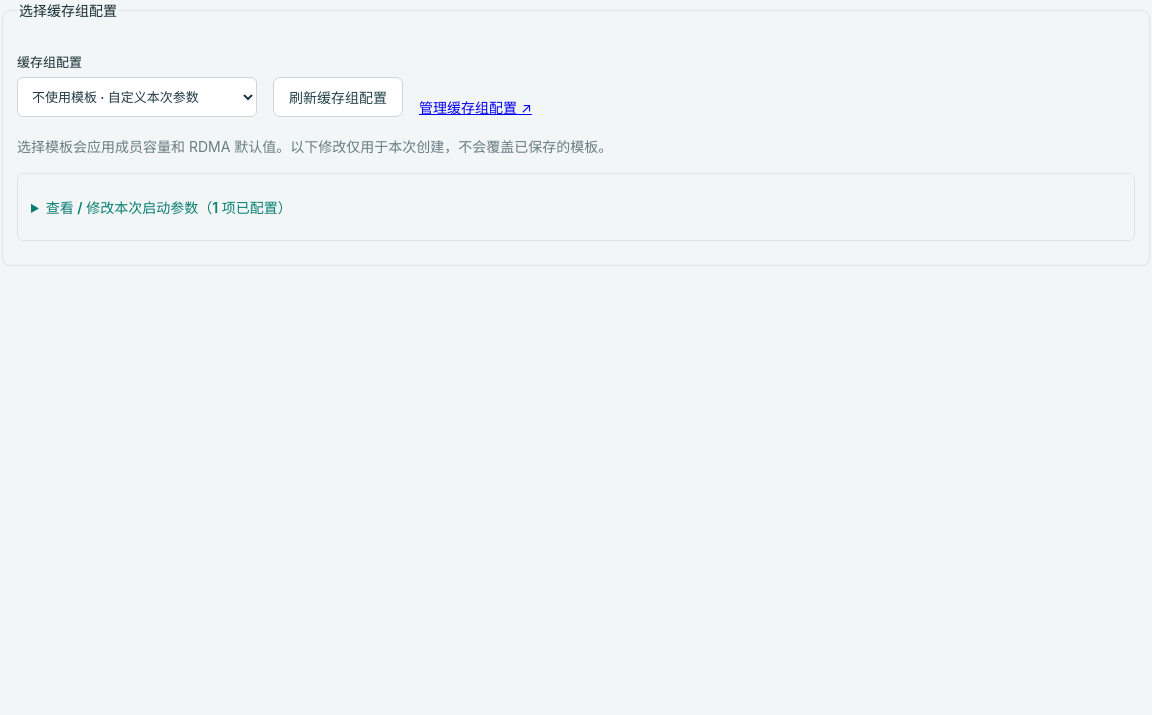
Test case: saves current cache options as a new profile without changing members
Click the heading "查看 / 修改本次启动参数（1 项已配置）".
click(169, 207)  # box [46,199,292,216]
(page scrolled)
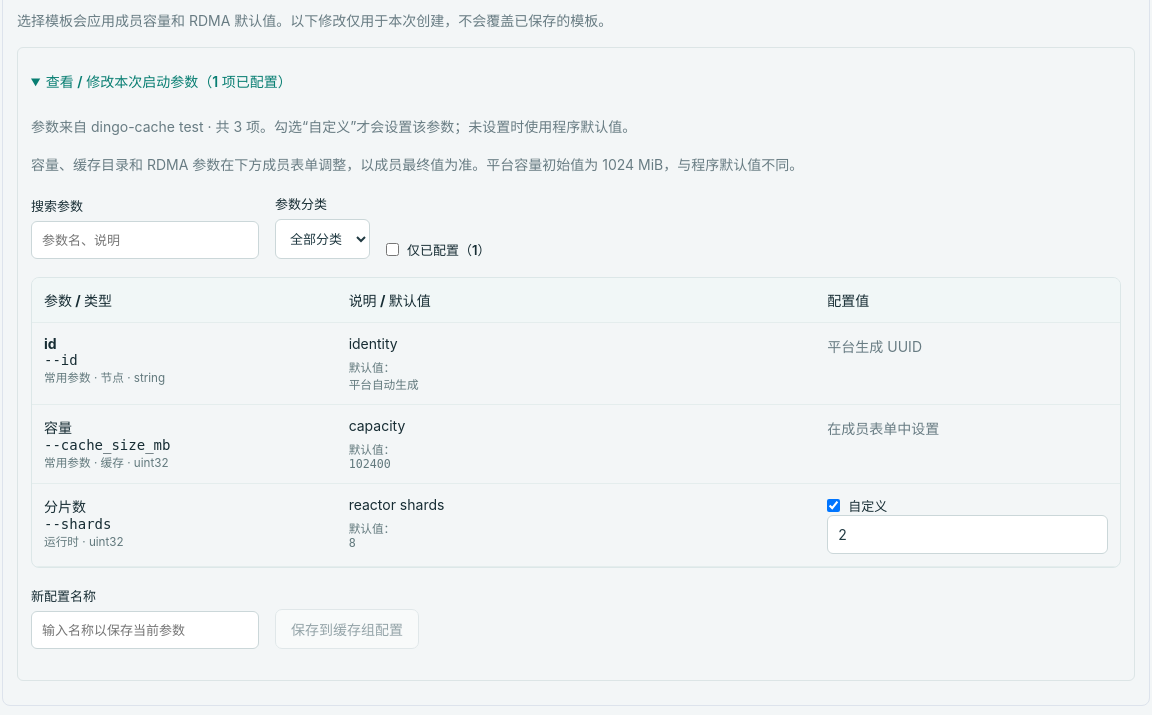
Type "新缓存配置" into the field labelled "新配置名称".
click(145, 630); type("新缓存配置")  # box [31,611,259,649]
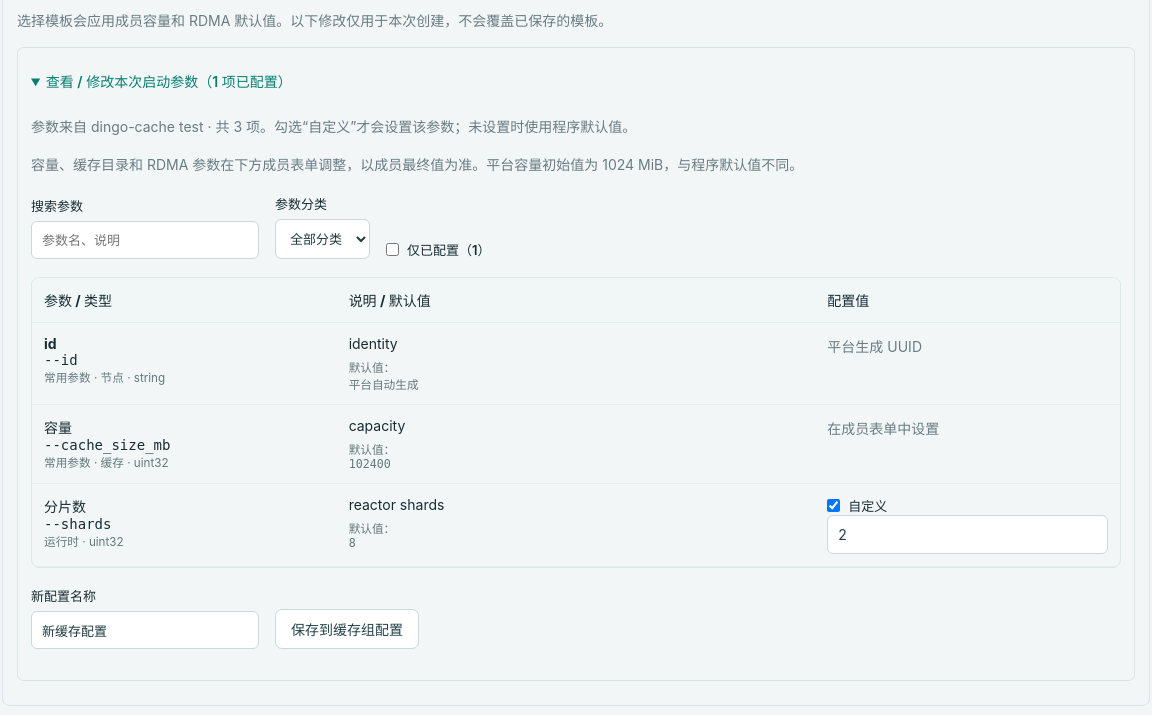
Click the button "保存到缓存组配置".
click(347, 629)  # box [275,609,419,649]
(page scrolled)
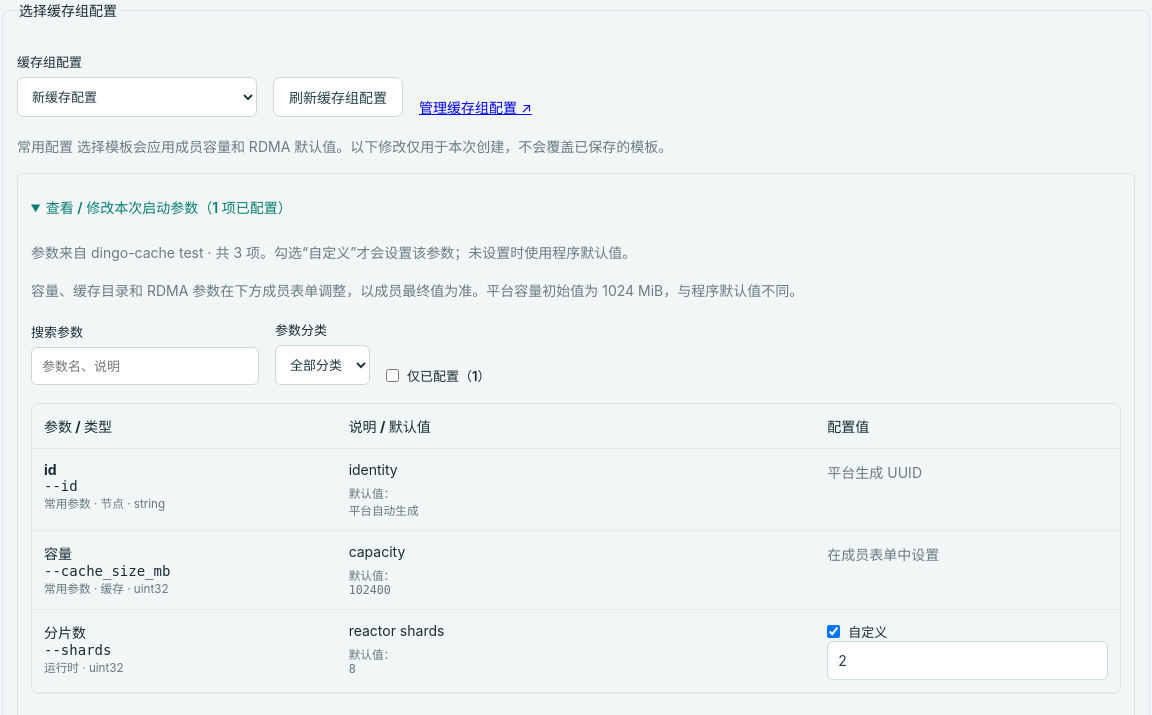
Result: the dropdown labelled "缓存组配置" shows "新缓存配置" at [17,77,257,117]
